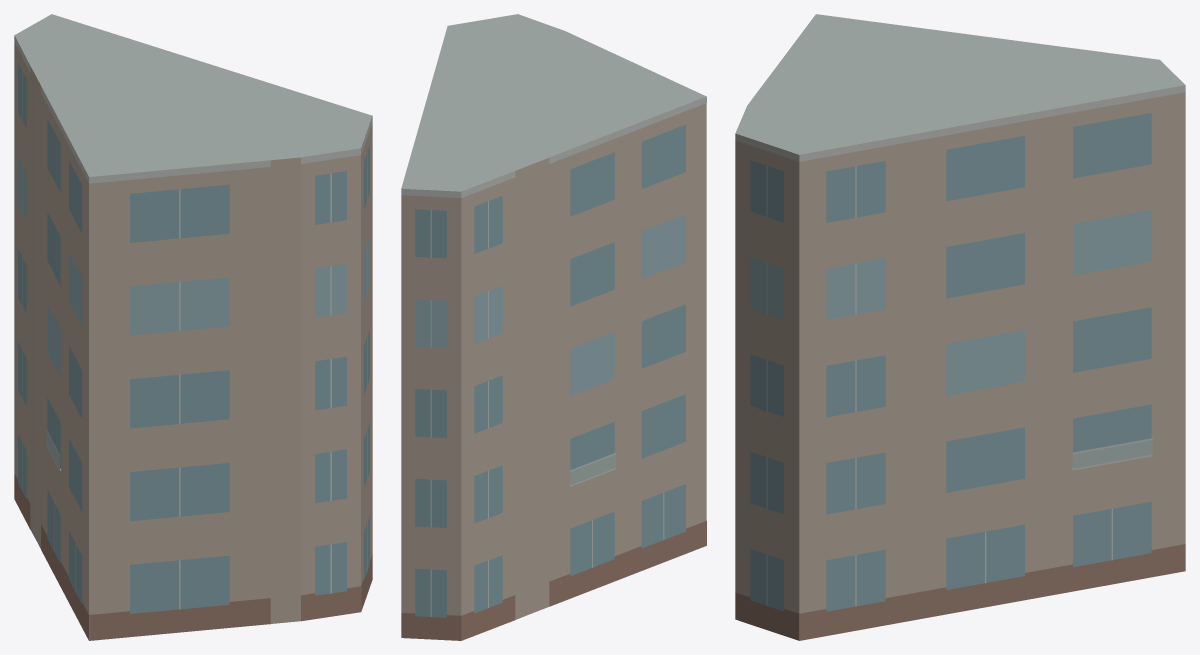
The model's file is survey-upis-32657778.glb.
The picture shows the model from 3 angles, left to right: view 1: azimuth 30°, elevation 25°; view 2: azimuth 150°, elevation 25°; view 3: azimuth 270°, elevation 25°; orthographic projection. The views are drawn at different scales.
Parts seen in each view (by area): view 1: survey-upis-32657778.tmp; view 2: survey-upis-32657778.tmp; view 3: survey-upis-32657778.tmp.
Boxes of the visible parts, x1=… form: survey-upis-32657778.tmp: x1=14, y1=14, x2=372, y2=640; survey-upis-32657778.tmp: x1=401, y1=14, x2=706, y2=640; survey-upis-32657778.tmp: x1=735, y1=14, x2=1185, y2=640.
Bounding box in the file's own units: 10.52 × 16.9 × 14.21.
